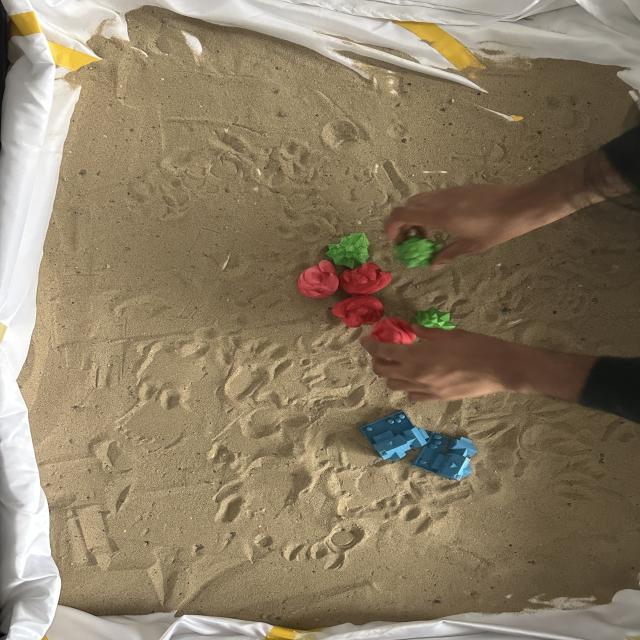fire: (330, 295, 385, 329), (339, 265, 398, 295), (298, 260, 336, 301), (370, 317, 415, 343)
house: (362, 412, 430, 465), (416, 430, 482, 482)
tree: (328, 228, 369, 274), (398, 235, 446, 270), (412, 308, 463, 329)
